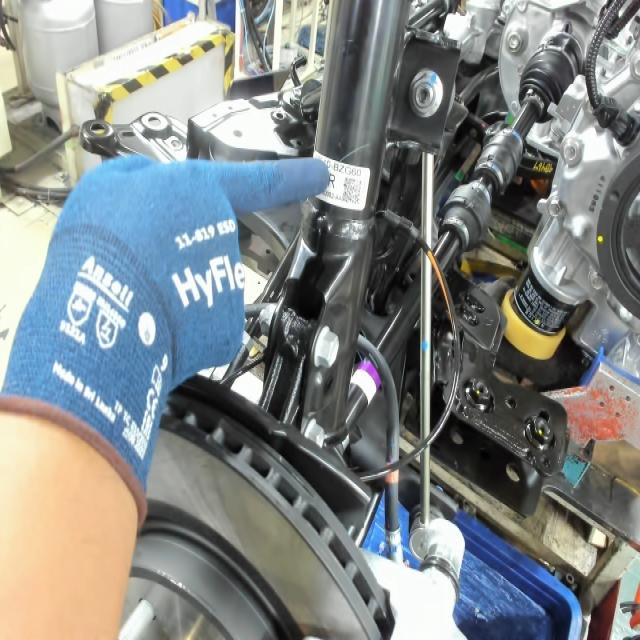Absorber RH-22: (330, 165, 364, 205)
Disc-HT: (149, 495, 312, 640)
Drive Shaft-UG: (348, 357, 389, 409)
